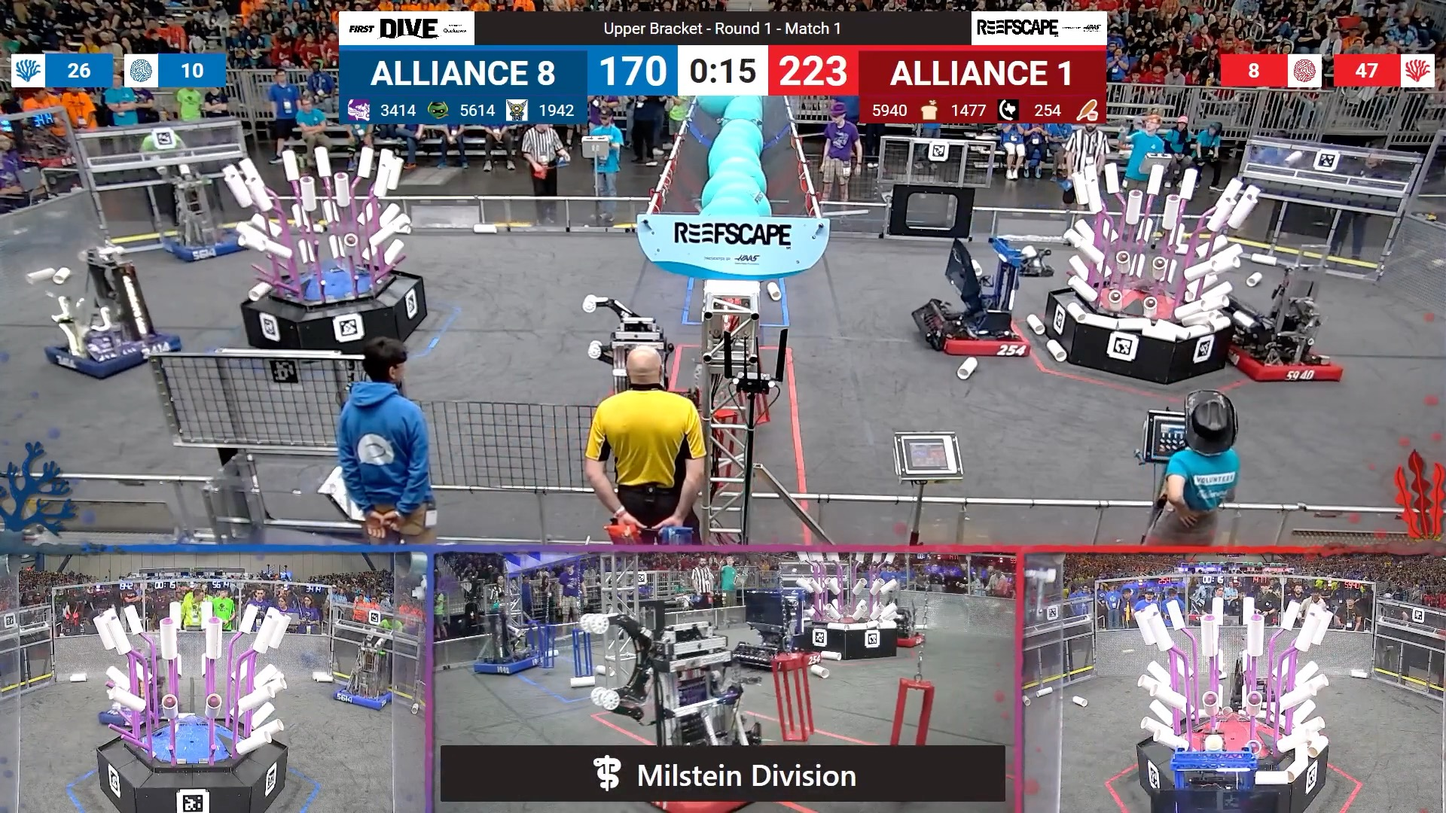bumpers: (1220, 330, 1354, 390), (38, 330, 188, 382), (917, 308, 1039, 366), (158, 234, 255, 266), (327, 685, 400, 716), (467, 654, 541, 680), (886, 628, 924, 650)
